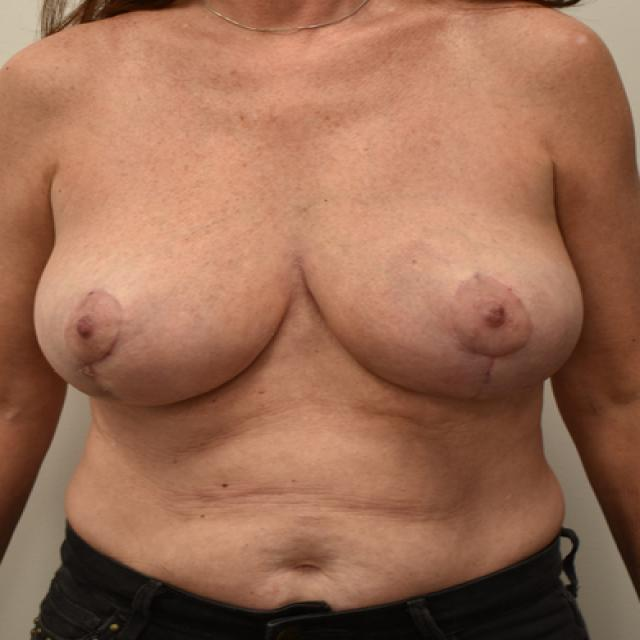Seno herido: (314, 210, 592, 416), (27, 209, 298, 417)
